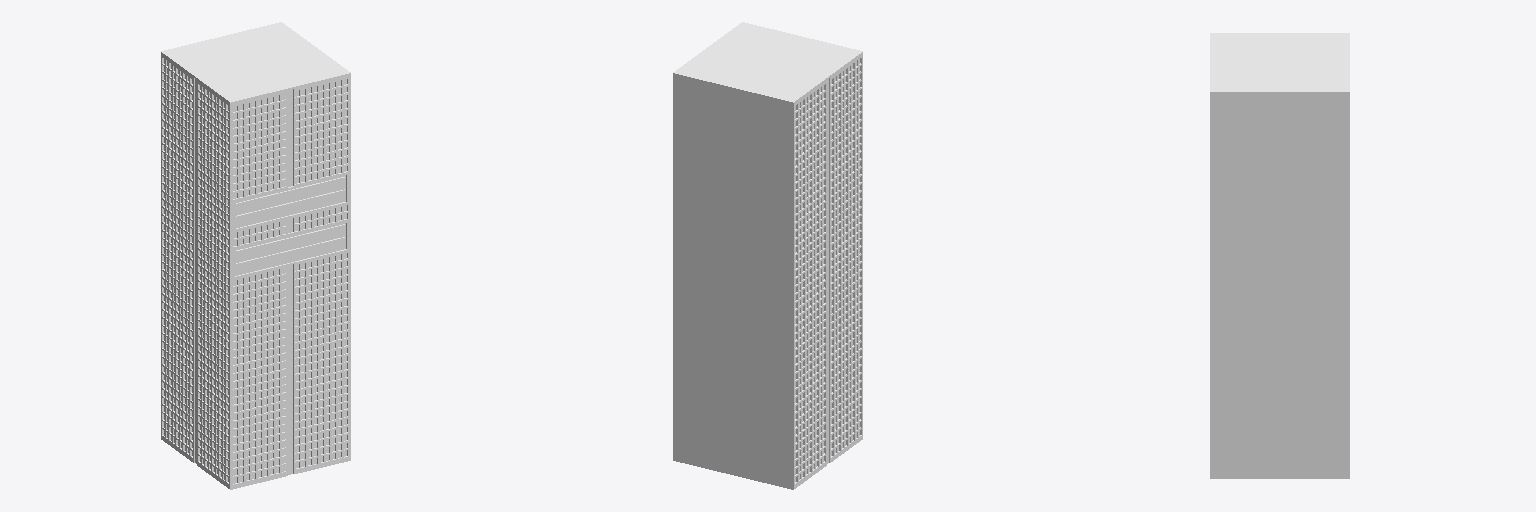
The model's file is skyscraper_stats.obj.
3 renders of one model, left to right at view 1: azimuth 30°, elevation 25°; view 2: azimuth 150°, elevation 25°; view 3: azimuth 270°, elevation 25°, orthographic.
Parts seen in each view (by area): view 1: object 1; view 2: object 1; view 3: object 1.
Part boxes in pixels (bbox=[...]): object 1: bbox=[161, 22, 350, 489]; object 1: bbox=[673, 22, 862, 489]; object 1: bbox=[1210, 33, 1349, 478].
Bounding box in the file's own units: 8 × 24.5 × 8.